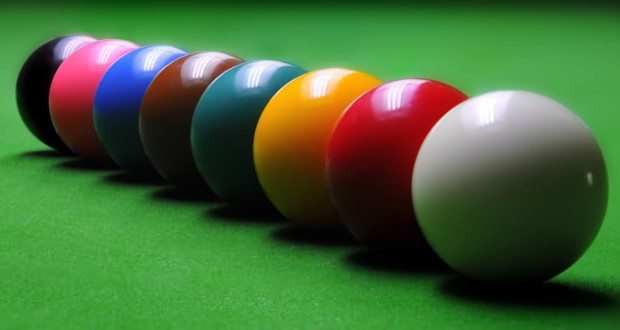blue ball: (94, 46, 190, 176)
red ball: (328, 78, 471, 263)
